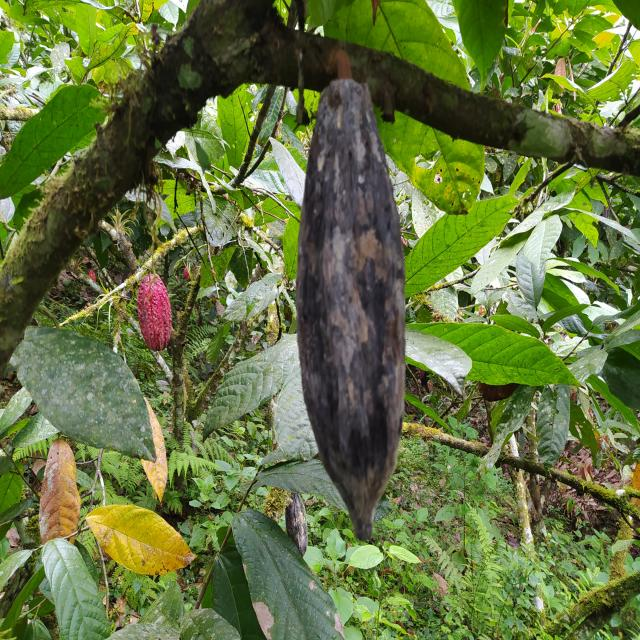Fitoftora: (298, 72, 410, 534)
